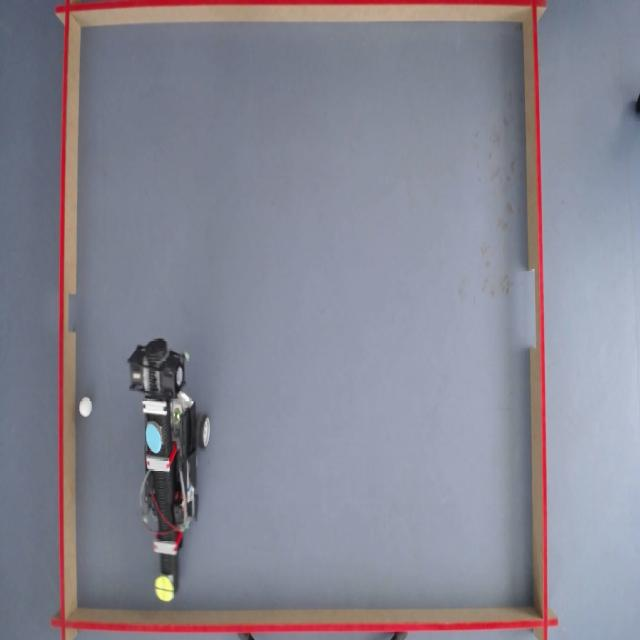robot: (130, 330, 208, 605)
robot-front: (152, 574, 176, 601)
robot-rear: (141, 425, 166, 454)
white: (79, 397, 93, 418)
